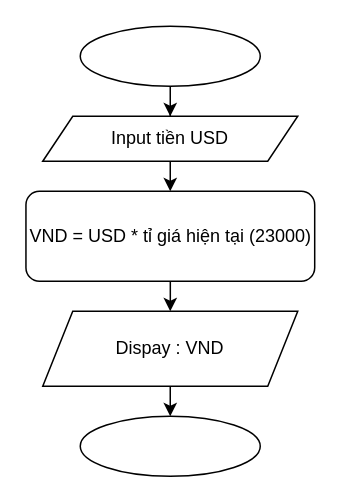
Image size: 342x503. Some labels were removed from this diagram. Here are the shapes that lost their labels. From the top down, the centre of each, then its label:
[169,55]: Begin
[169,445]: END
